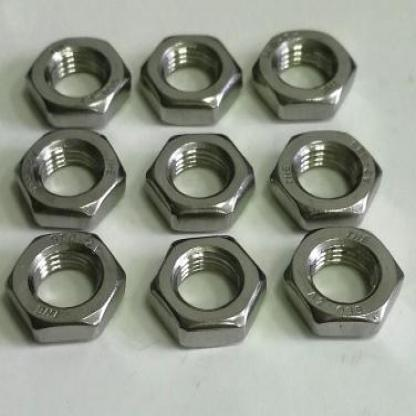FOD: (280, 221, 406, 340), (4, 230, 129, 347), (146, 234, 266, 354), (268, 127, 383, 233), (17, 123, 127, 232), (144, 130, 254, 235), (22, 34, 132, 128), (138, 32, 244, 128), (251, 28, 359, 119)
